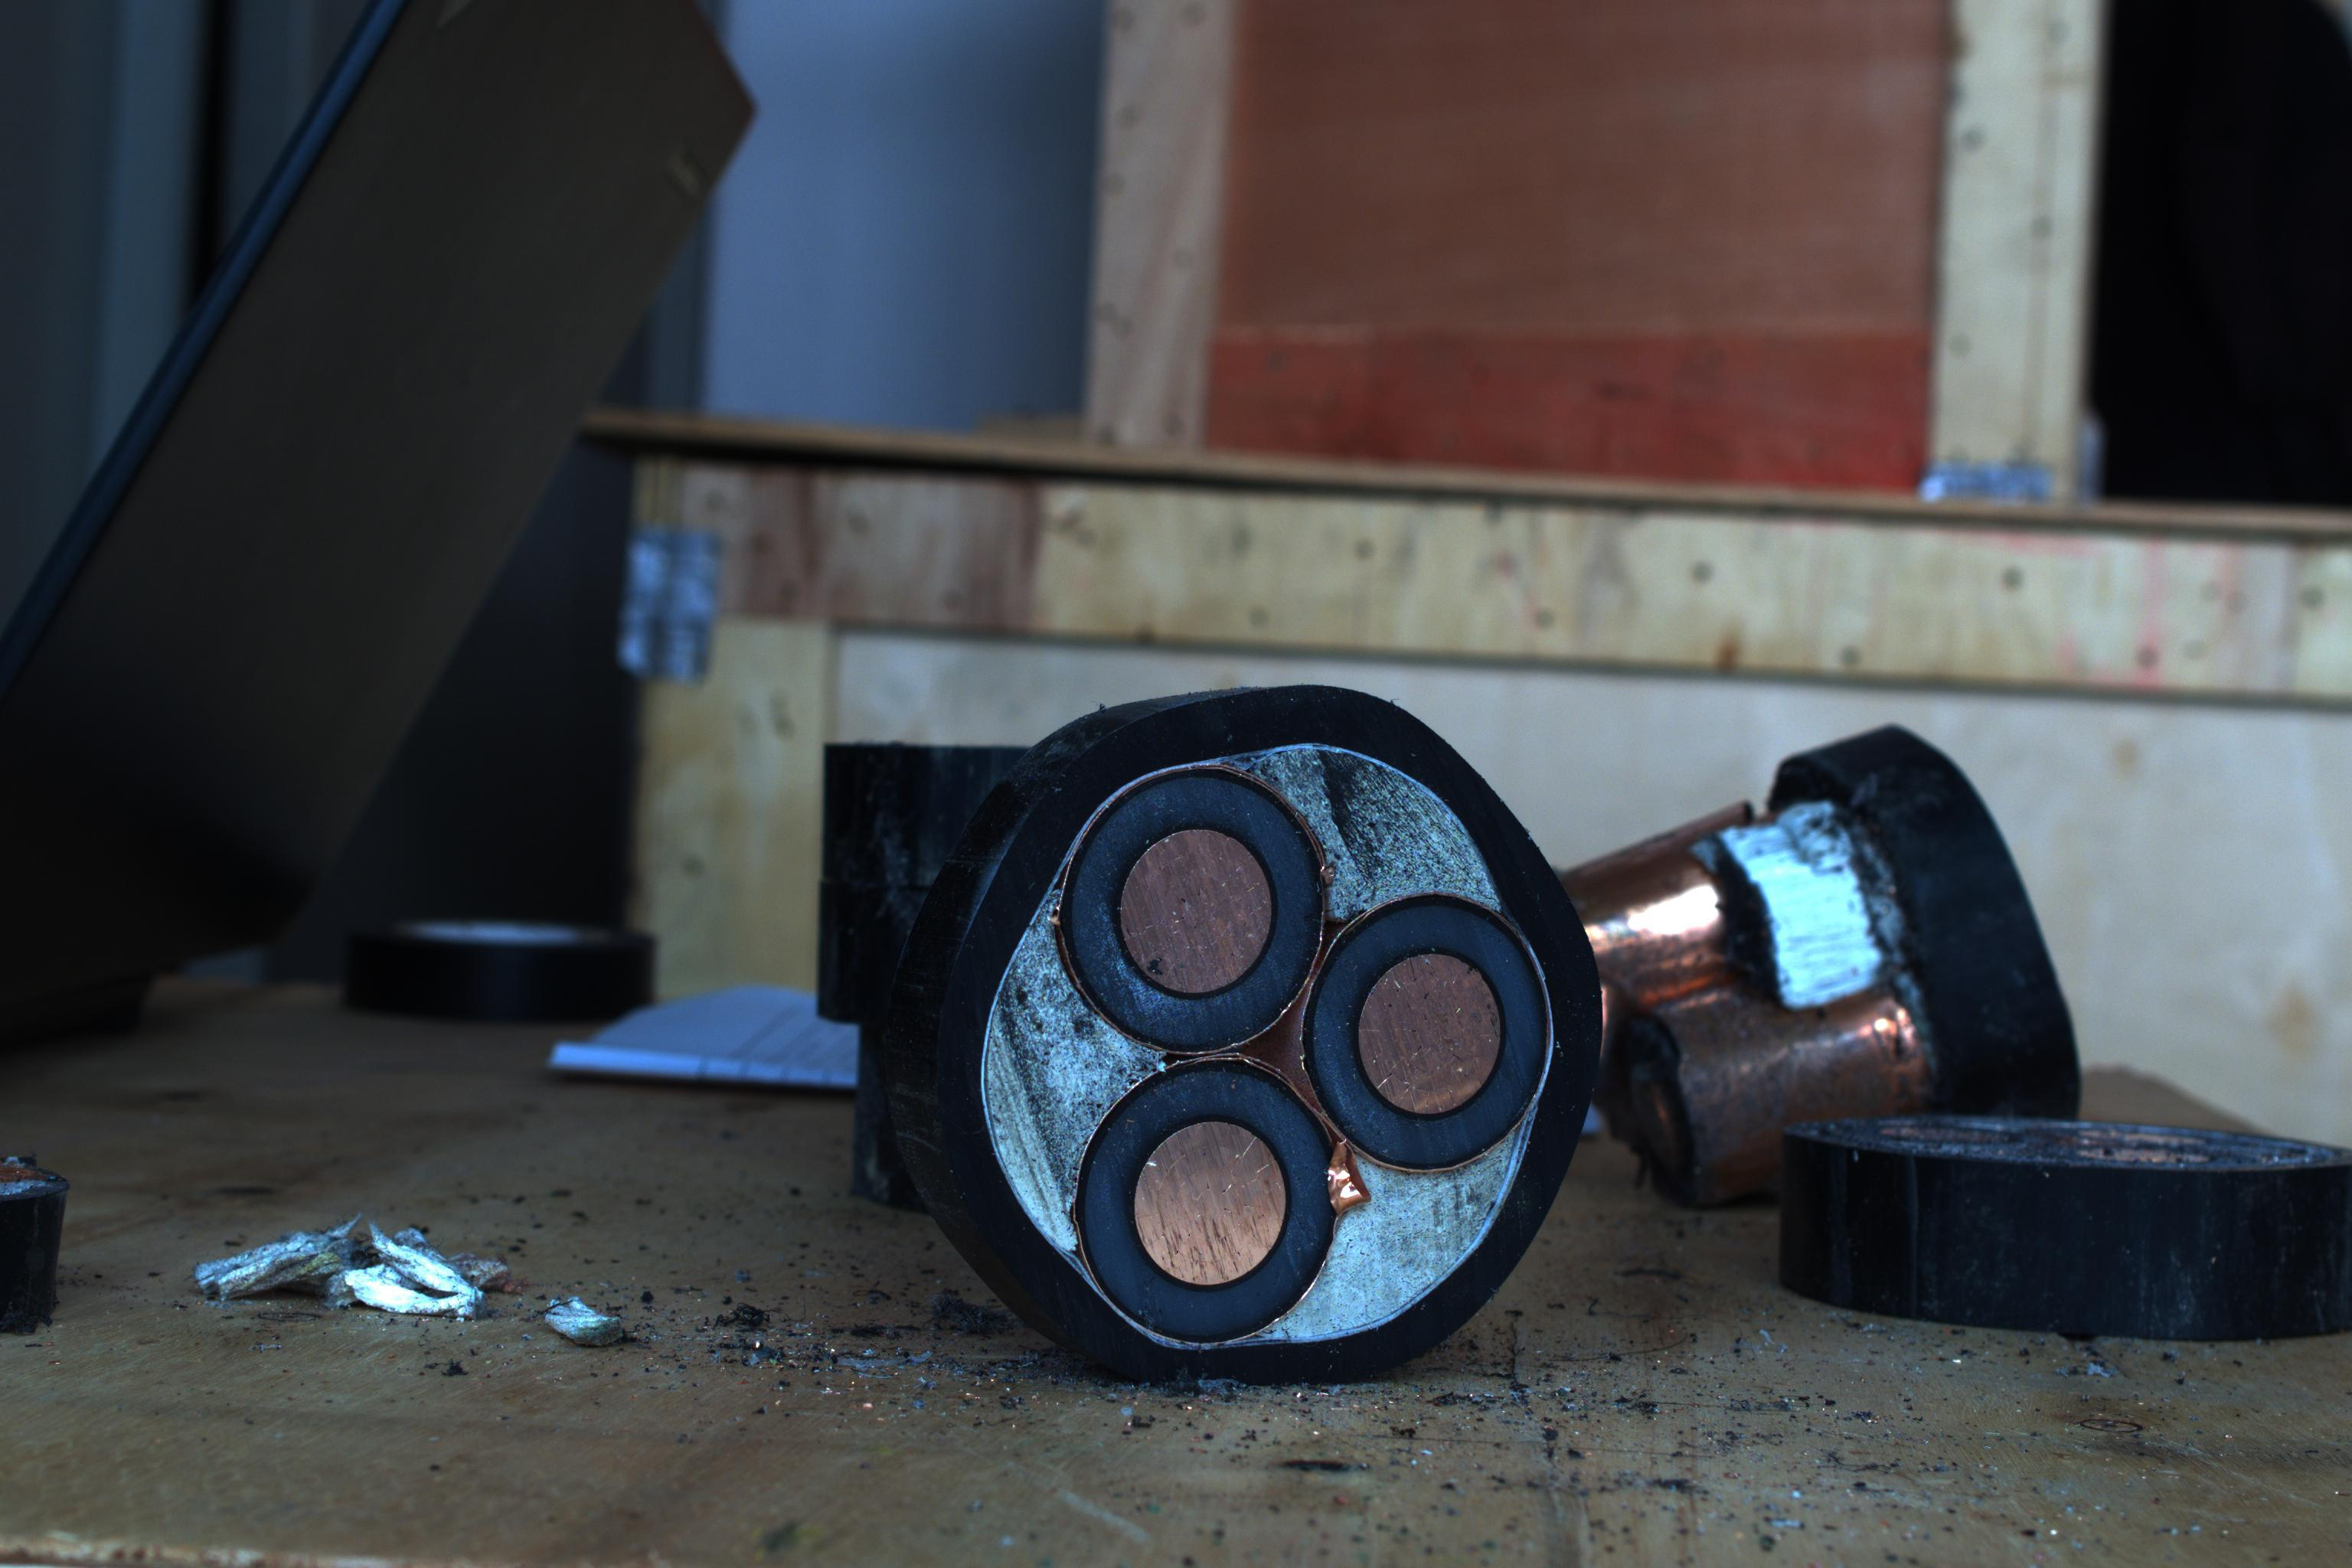ZA_YJV_8.7_10kV_3x240: (920, 702, 1596, 1407)
